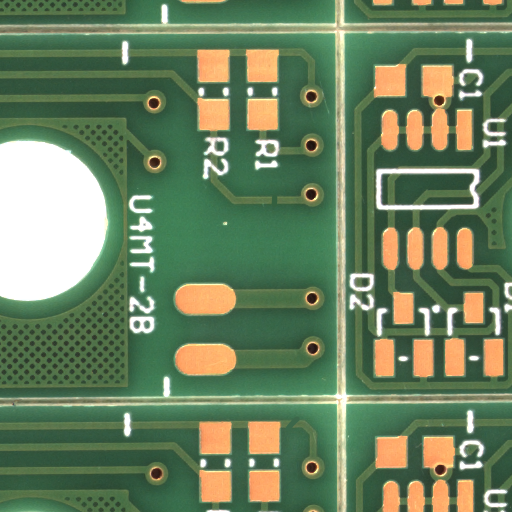Open_circuit: (292, 423, 307, 436), (273, 200, 281, 211)
